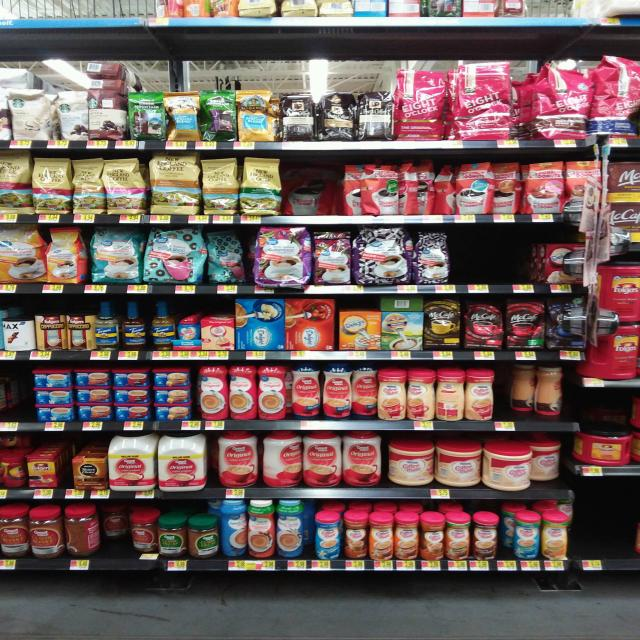void: (606, 476, 638, 574), (572, 478, 602, 574), (454, 224, 486, 296), (0, 361, 32, 433), (490, 224, 521, 298), (522, 225, 551, 295)
